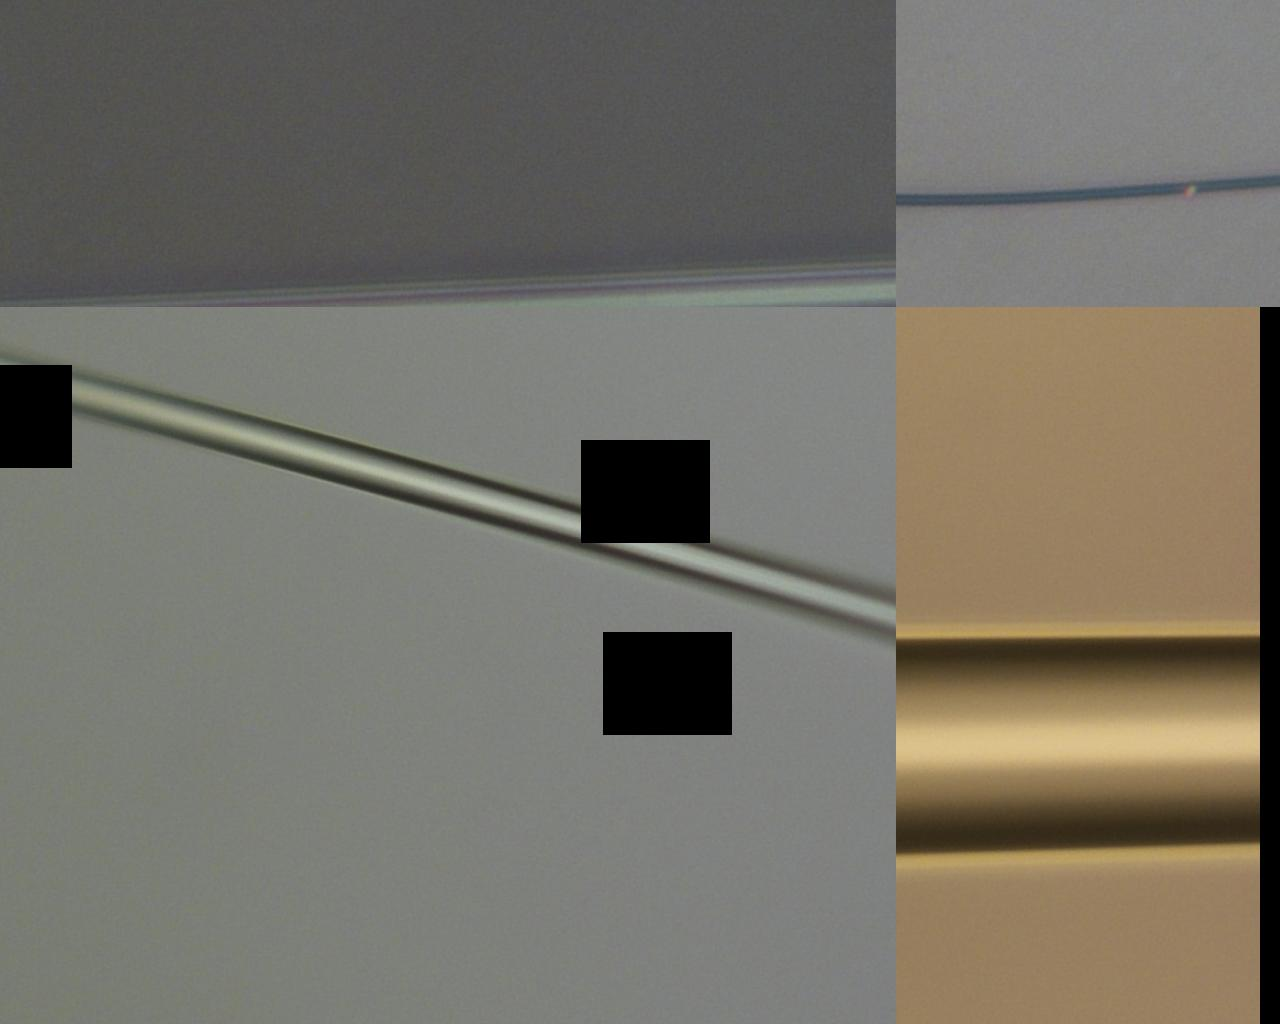fiber: (550, 249, 1280, 470), (299, 0, 550, 634), (680, 634, 749, 1024)
